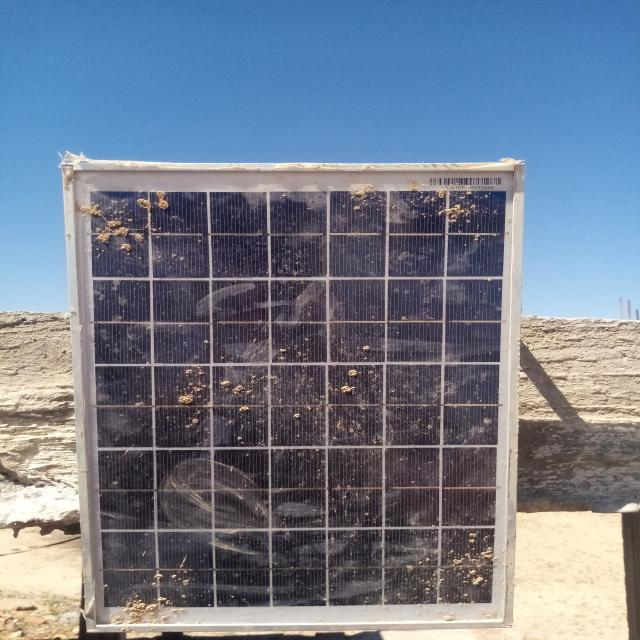faulty: (68, 166, 523, 629)
